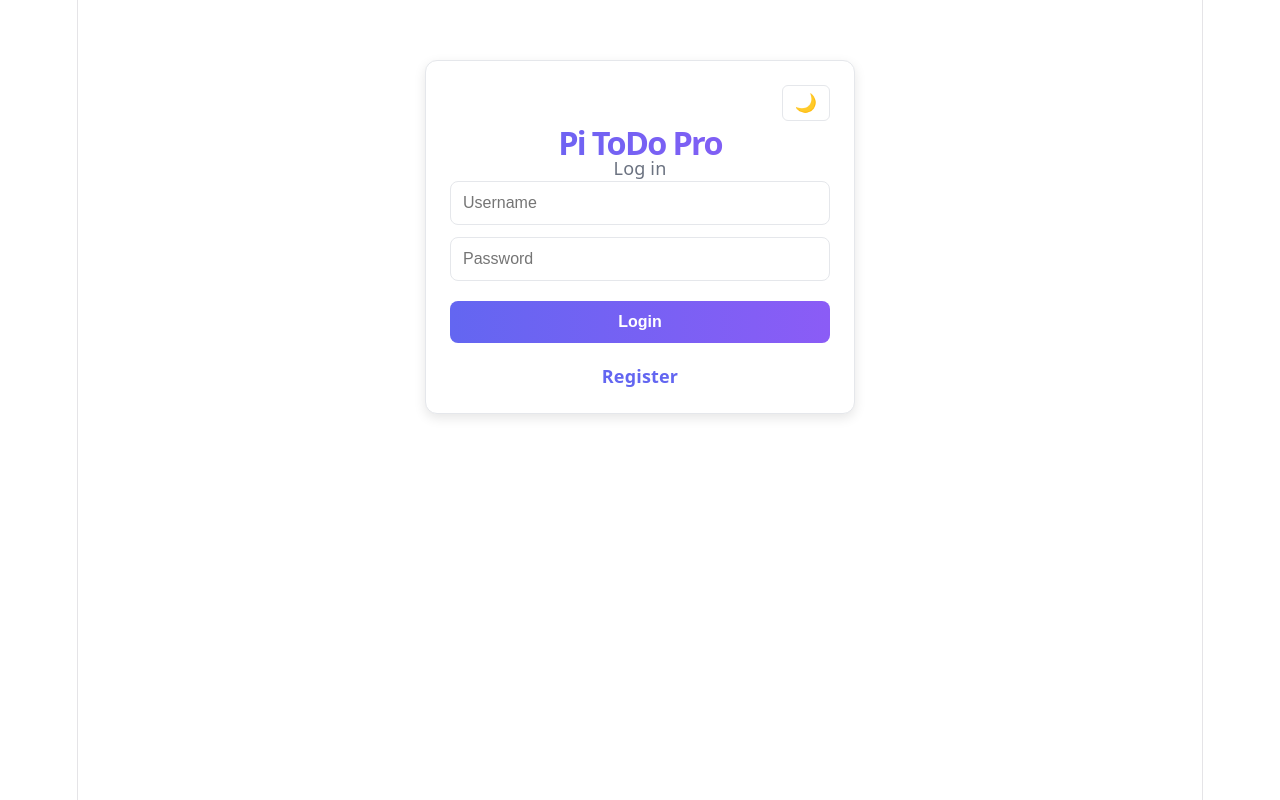
Login Page › logs in and shows todo list
Type "testuser" into the field with placeholder "Username". click: point(640, 203)
box: left=450, top=181, right=830, bottom=225
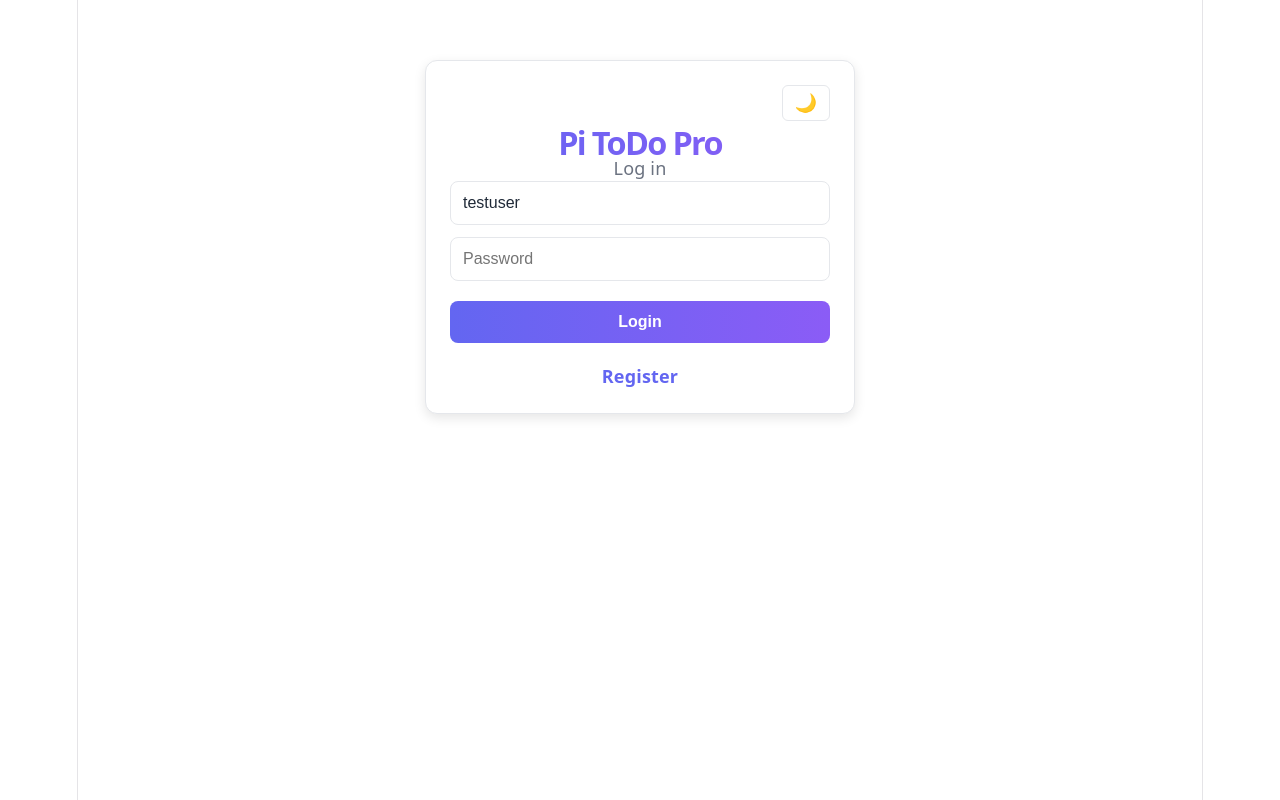
Type "secret123" into the password field with placeholder "Password". click: point(640, 259)
box: left=450, top=237, right=830, bottom=281
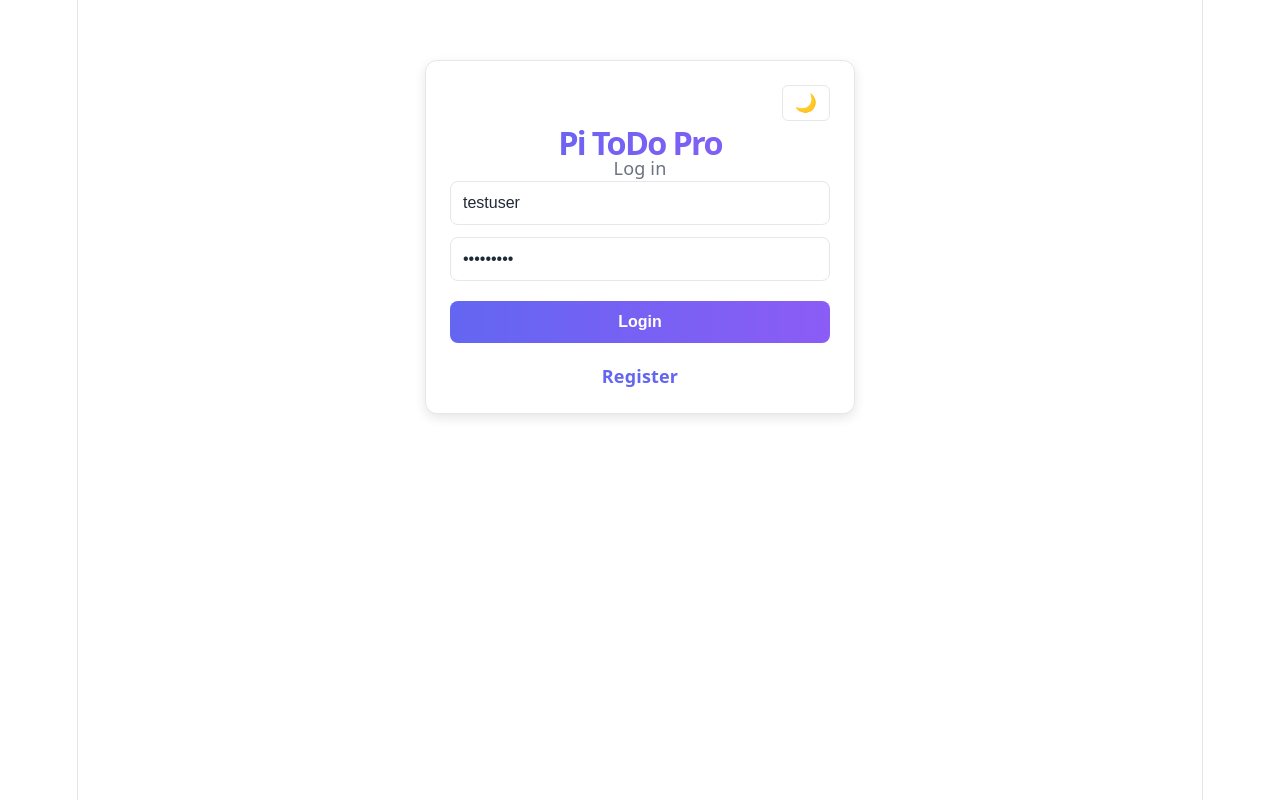
Click the button "Login". click: point(640, 322)
box: left=450, top=301, right=830, bottom=343
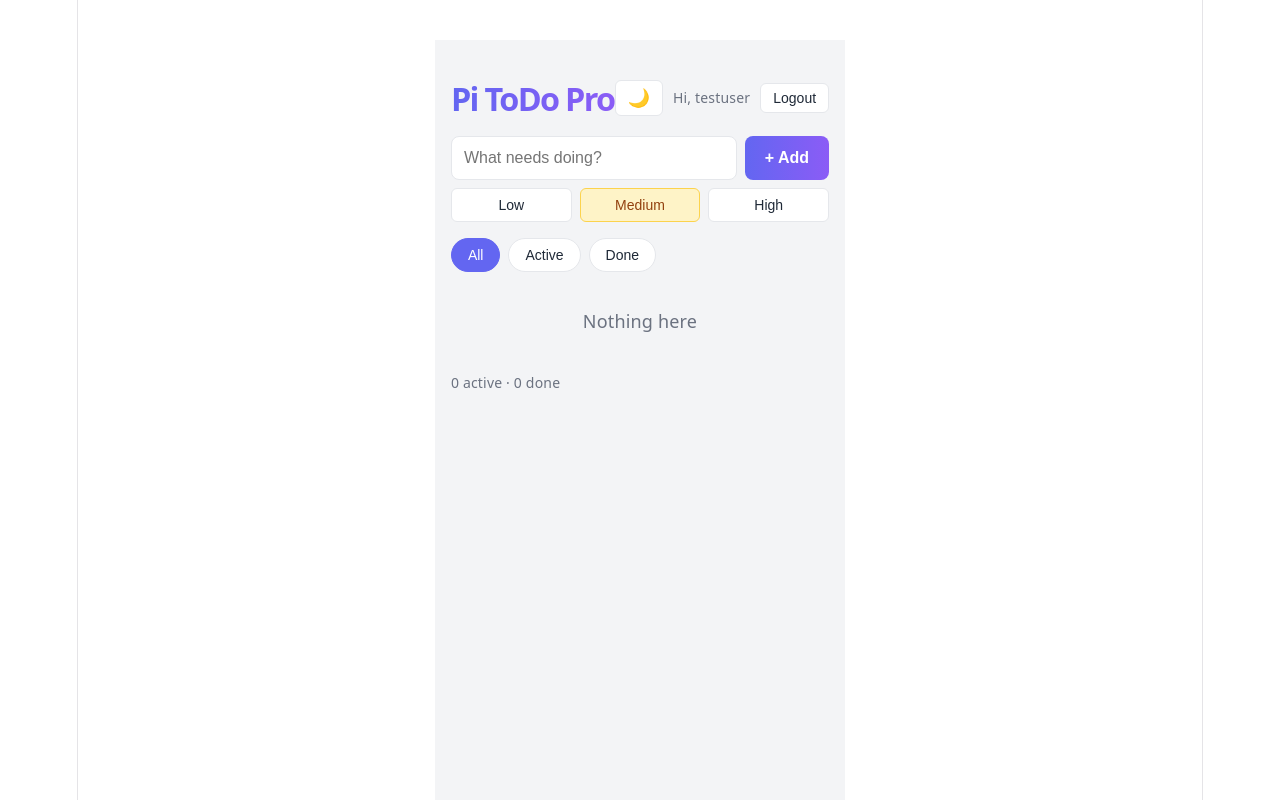
Expected: the text "Hi, testuser" is shown, left=673, top=85, right=750, bottom=111
